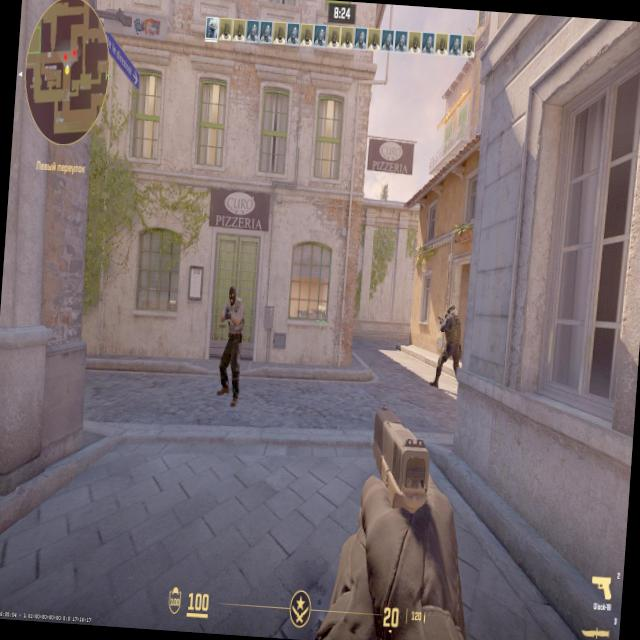CT: (444, 308, 462, 374)
CT_heat: (448, 308, 458, 320)
T: (224, 286, 246, 386)
T_heat: (228, 294, 237, 308)
